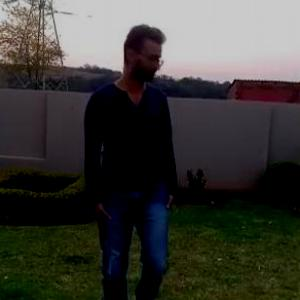follow: (78, 17, 185, 299)
